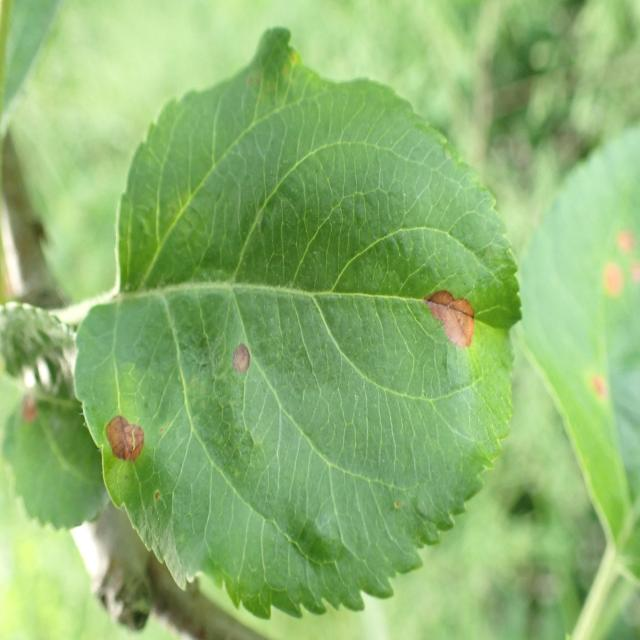Black Rot: (421, 274, 502, 372), (93, 380, 151, 487), (223, 333, 262, 399)
